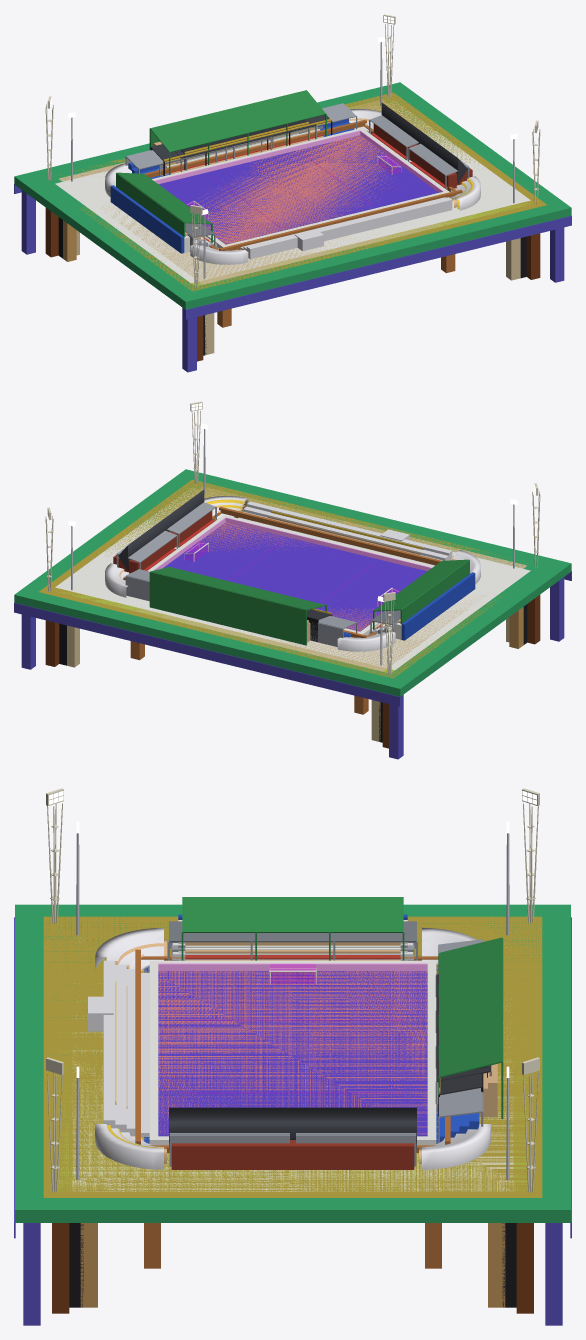
The model's file is table.glb.
3 renders of one model, top to bottom at view 1: azimuth 30°, elevation 25°; view 2: azimuth 150°, elevation 25°; view 3: azimuth 270°, elevation 25°, orthographic. The views are drawn at different scales.
Parts seen in each view (by area): view 1: SM_Table_004_Board, CoP_Walls, SM_Table_005_Band, SM_Table_006_Track, SM_Table_005_Board, SM_Table_002_Board, SM_Table_004_Main_S_Roof, SM_Table_003_Board, SM_Table_004_Skirt_N, SM_Table_002_Side_N_Step4, SM_Table_001_Rail_S, SM_Table_005_End_W_Back (+24 smaller); view 2: SM_Table_004_Board, CoP_Walls, SM_Table_005_Band, SM_Table_005_Board, SM_Table_002_Board, SM_Table_004_Main_S_Back, SM_Table_003_Board, SM_Table_004_Skirt_S, SM_Table_004_Main_S_Roof, SM_Table_001_Frame_N, SM_Table_001_Rail_N, SM_Table_005_End_W_Back (+22 smaller); view 3: SM_Table_002_Board, CoP_Walls, SM_Table_005_Band, SM_Table_004_Board, SM_Table_006_Track, SM_Table_004_Main_S_Roof, SM_Table_004_End_W_Roof, SM_Table_005_Board, SM_Table_007_Brick_E, SM_Table_007_Brick_E_Roof, SM_Table_007_Board, SM_Table_001_Rail_W (+30 smaller).
Boxes of the visible parts, left/top/right/bottom form: SM_Table_004_Board: left=14, top=82, right=571, bottom=309; CoP_Walls: left=155, top=131, right=442, bottom=244; SM_Table_005_Band: left=159, top=135, right=438, bottom=248; SM_Table_006_Track: left=198, top=135, right=449, bottom=248; SM_Table_005_Board: left=55, top=101, right=530, bottom=283; SM_Table_002_Board: left=59, top=92, right=546, bottom=291; SM_Table_004_Main_S_Roof: left=150, top=90, right=325, bottom=152; SM_Table_003_Board: left=58, top=99, right=471, bottom=284; SM_Table_004_Skirt_N: left=185, top=215, right=571, bottom=319; SM_Table_002_Side_N_Step4: left=246, top=197, right=452, bottom=259; SM_Table_001_Rail_S: left=152, top=128, right=364, bottom=184; SM_Table_005_End_W_Back: left=110, top=185, right=184, bottom=253; SM_Table_004_Board: left=14, top=469, right=571, bottom=696; CoP_Walls: left=155, top=518, right=430, bottom=631; SM_Table_005_Band: left=163, top=522, right=426, bottom=635; SM_Table_005_Board: left=55, top=488, right=530, bottom=670; SM_Table_002_Board: left=39, top=479, right=525, bottom=678; SM_Table_004_Main_S_Back: left=149, top=572, right=306, bottom=645; SM_Table_003_Board: left=112, top=487, right=526, bottom=671; SM_Table_004_Skirt_S: left=14, top=602, right=400, bottom=706; SM_Table_004_Main_S_Roof: left=150, top=567, right=326, bottom=610; SM_Table_001_Frame_N: left=219, top=506, right=441, bottom=565; SM_Table_001_Rail_N: left=221, top=515, right=433, bottom=571; SM_Table_005_End_W_Back: left=401, top=572, right=475, bottom=640; SM_Table_002_Board: left=43, top=916, right=542, bottom=1197; CoP_Walls: left=158, top=963, right=427, bottom=1135; SM_Table_005_Band: left=144, top=966, right=440, bottom=1143; SM_Table_004_Board: left=15, top=904, right=570, bottom=1222; SM_Table_006_Track: left=141, top=966, right=438, bottom=1143; SM_Table_004_Main_S_Roof: left=439, top=937, right=502, bottom=1077; SM_Table_004_End_W_Roof: left=182, top=897, right=403, bottom=932; SM_Table_005_Board: left=72, top=940, right=513, bottom=1191; SM_Table_007_Brick_E: left=171, top=1140, right=414, bottom=1169; SM_Table_007_Brick_E_Roof: left=169, top=1107, right=416, bottom=1150; SM_Table_007_Board: left=58, top=938, right=527, bottom=1191; SM_Table_001_Rail_W: left=158, top=960, right=427, bottom=970.
Bounding box in the file's own units: 2.52 × 0.965 × 1.95.
